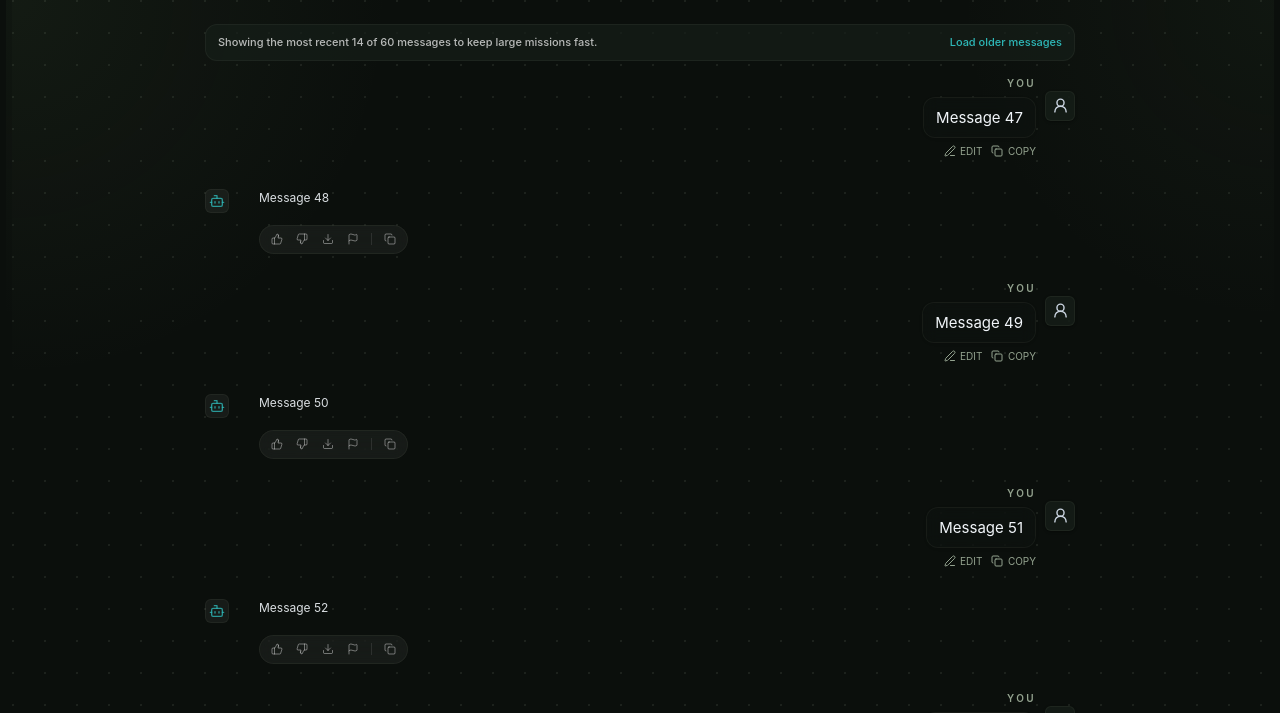
Test: deepspace page › compacts long deep space threads and reveals older messages in batches
The width and height of the screenshot is (1280, 713).
Check: the text "Showing the most recent 14 of 60 messages" is shown, box [218,34,597,50]
Check: the text "Message 1" is not shown
Click the button "Load older messages": (1006, 42) [950,34,1062,50]
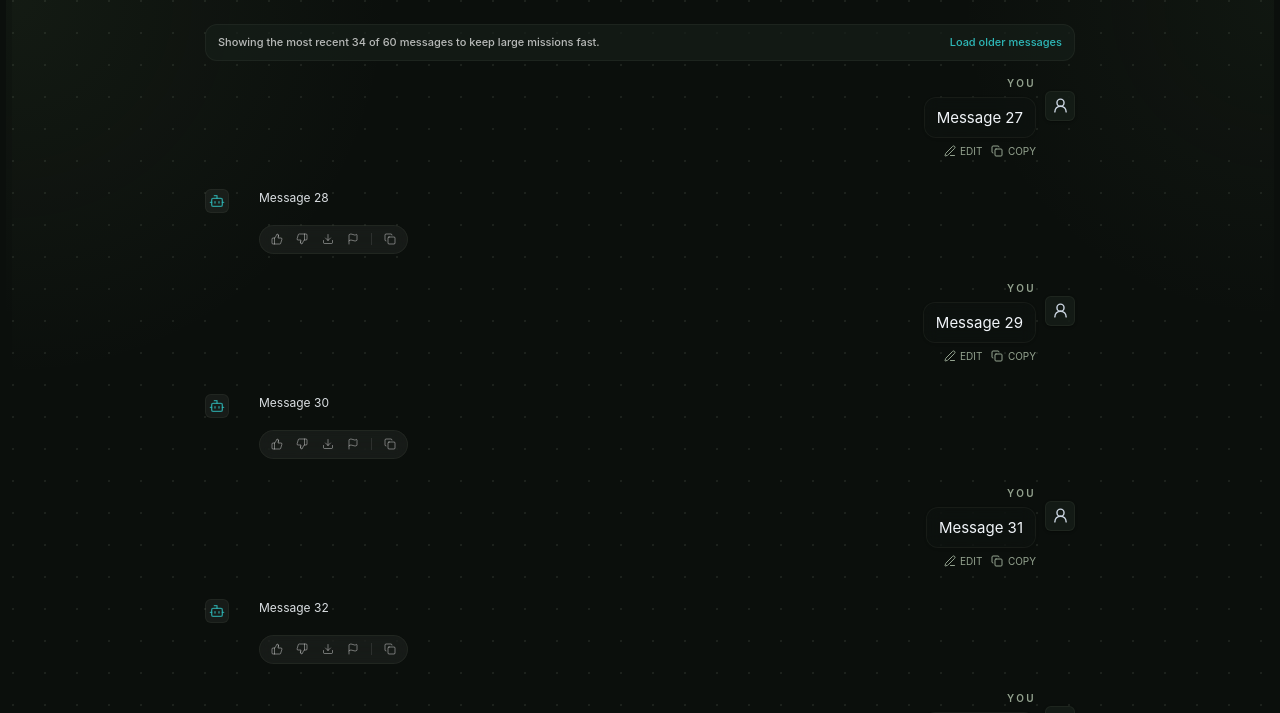
Check: the text "Message 1" is not shown
Check: the text "Showing the most recent 34 of 60 messages" is shown, box [218,34,600,50]
Check: the text "Message 27" is shown, box [924,96,1036,138]
Click the button "Load older messages": (1006, 42) [950,34,1062,50]
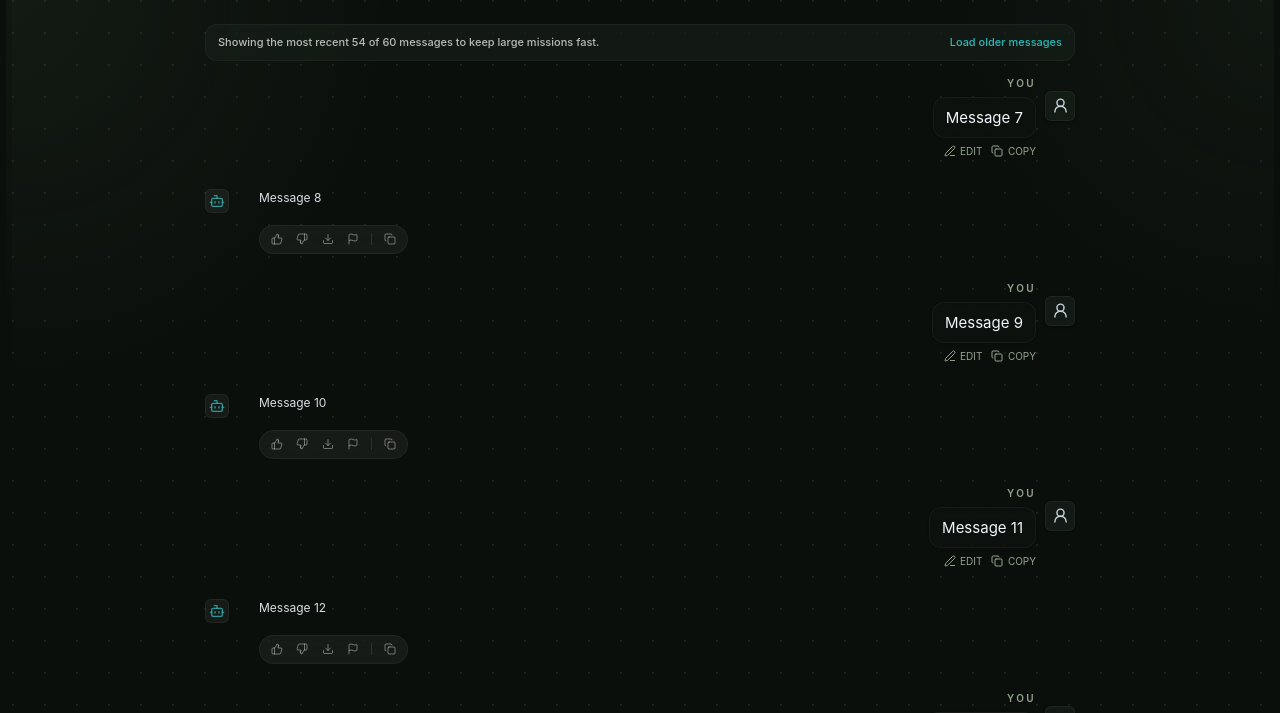
Check: the text "Showing the most recent 54 of 60 messages" is shown, box [218,34,599,50]
Click the button "Load older messages": (1006, 42) [950,34,1062,50]
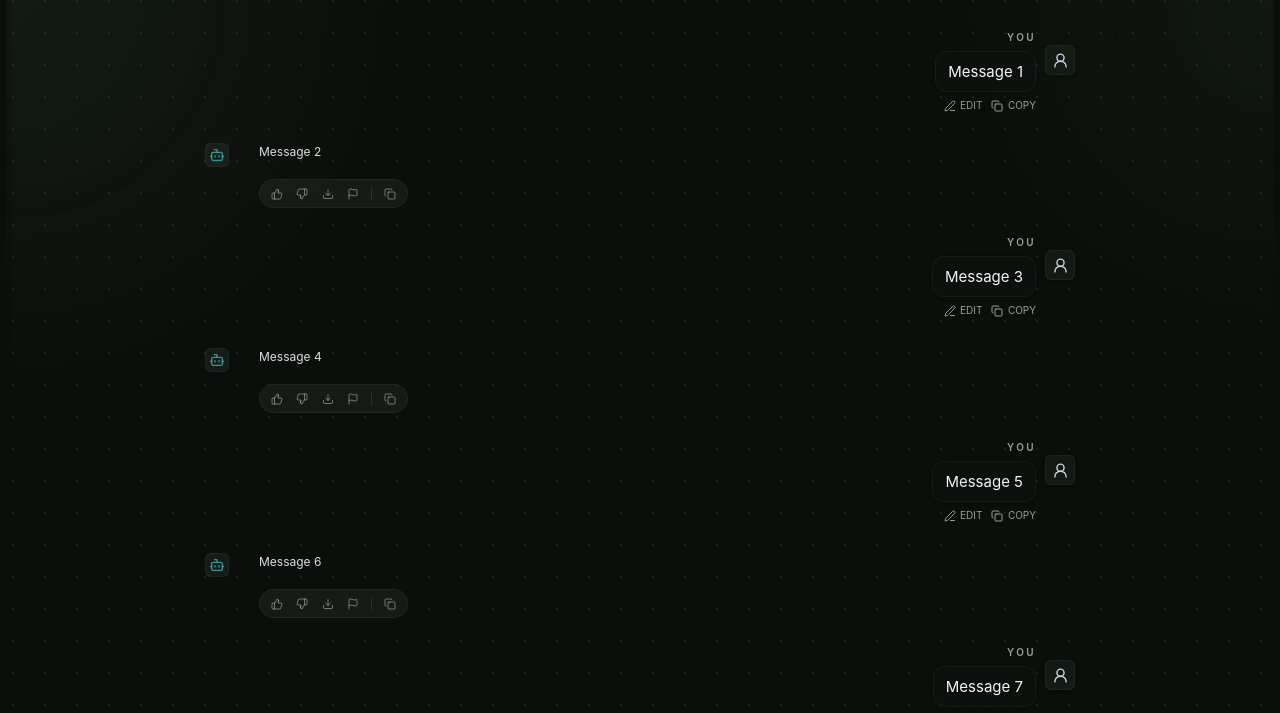
Check: the text "Showing the most recent" is gone
Check: the text "Message 1" is shown, box [935,51,1036,92]
